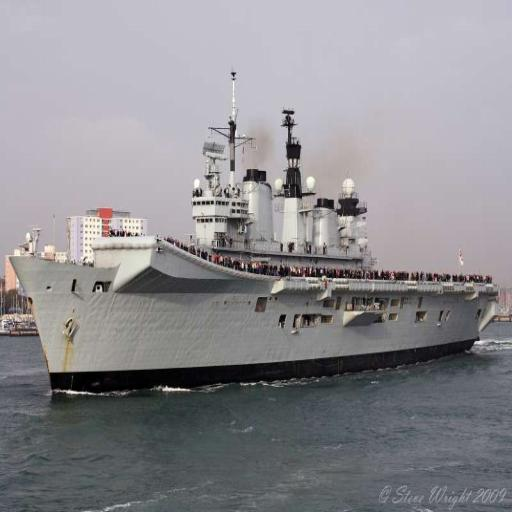Portanaves: (9, 61, 505, 402)
